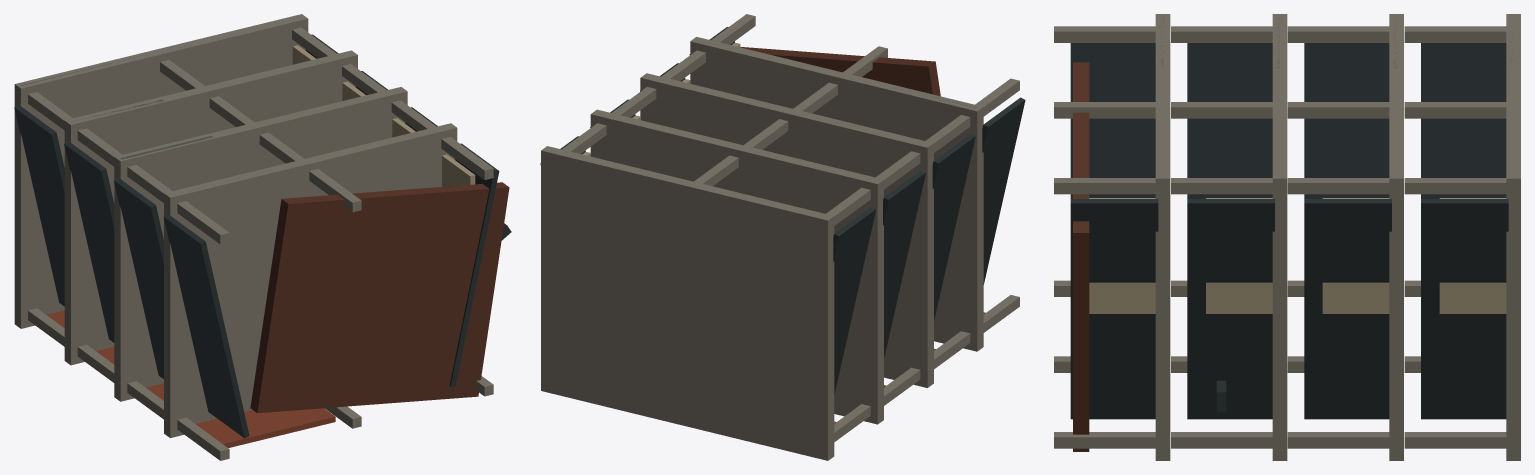
The model's file is collapsed_apartment.obj.
3 renders of one model, left to right at view 1: azimuth 30°, elevation 25°; view 2: azimuth 150°, elevation 25°; view 3: azimuth 270°, elevation 25°, orthographic. The views are drawn at different scales.
Bounding box in the file's own units: 13 × 8 × 11.99.
